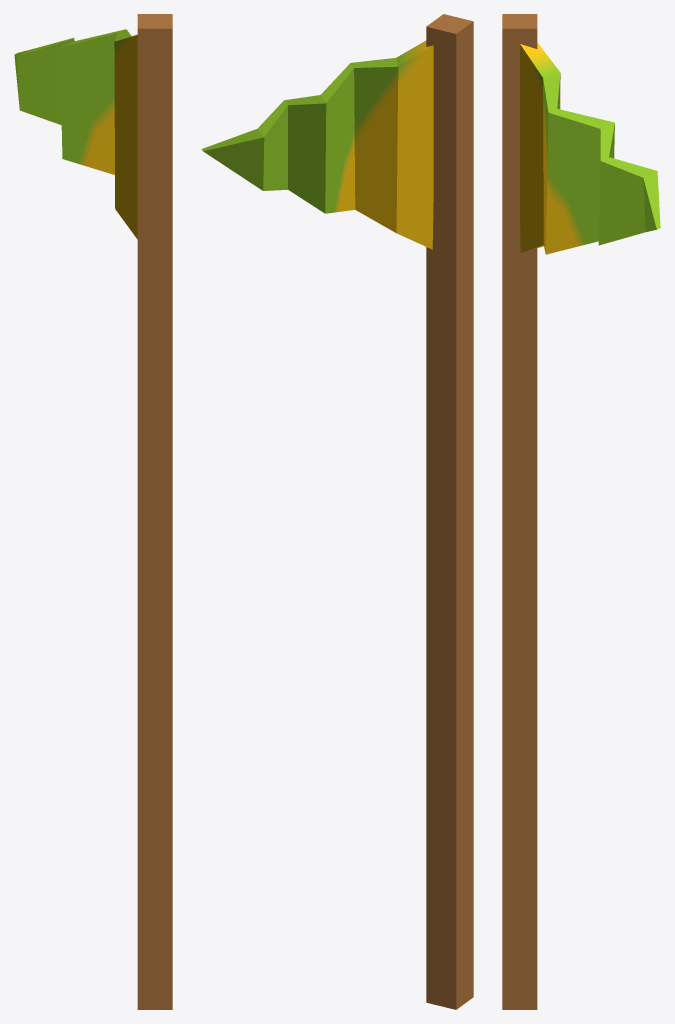
Rendered from WoodFlag_model.fbx.
3 views of the same model, side by side, from view 1: azimuth 90°, elevation 25°; view 2: azimuth 150°, elevation 25°; view 3: azimuth 270°, elevation 25° (orthographic).
Visible parts, largest first — view 1: Wood, Flag; view 2: Wood, Flag; view 3: Wood, Flag.
Boxes of the visible parts, bbox=[...] form: Wood: bbox=[137, 14, 172, 1009]; Flag: bbox=[14, 29, 137, 239]; Wood: bbox=[426, 14, 473, 1009]; Flag: bbox=[201, 40, 433, 249]; Wood: bbox=[502, 14, 537, 1009]; Flag: bbox=[520, 42, 660, 254].
Bounding box in the file's own units: 39.04 × 186 × 27.22.
